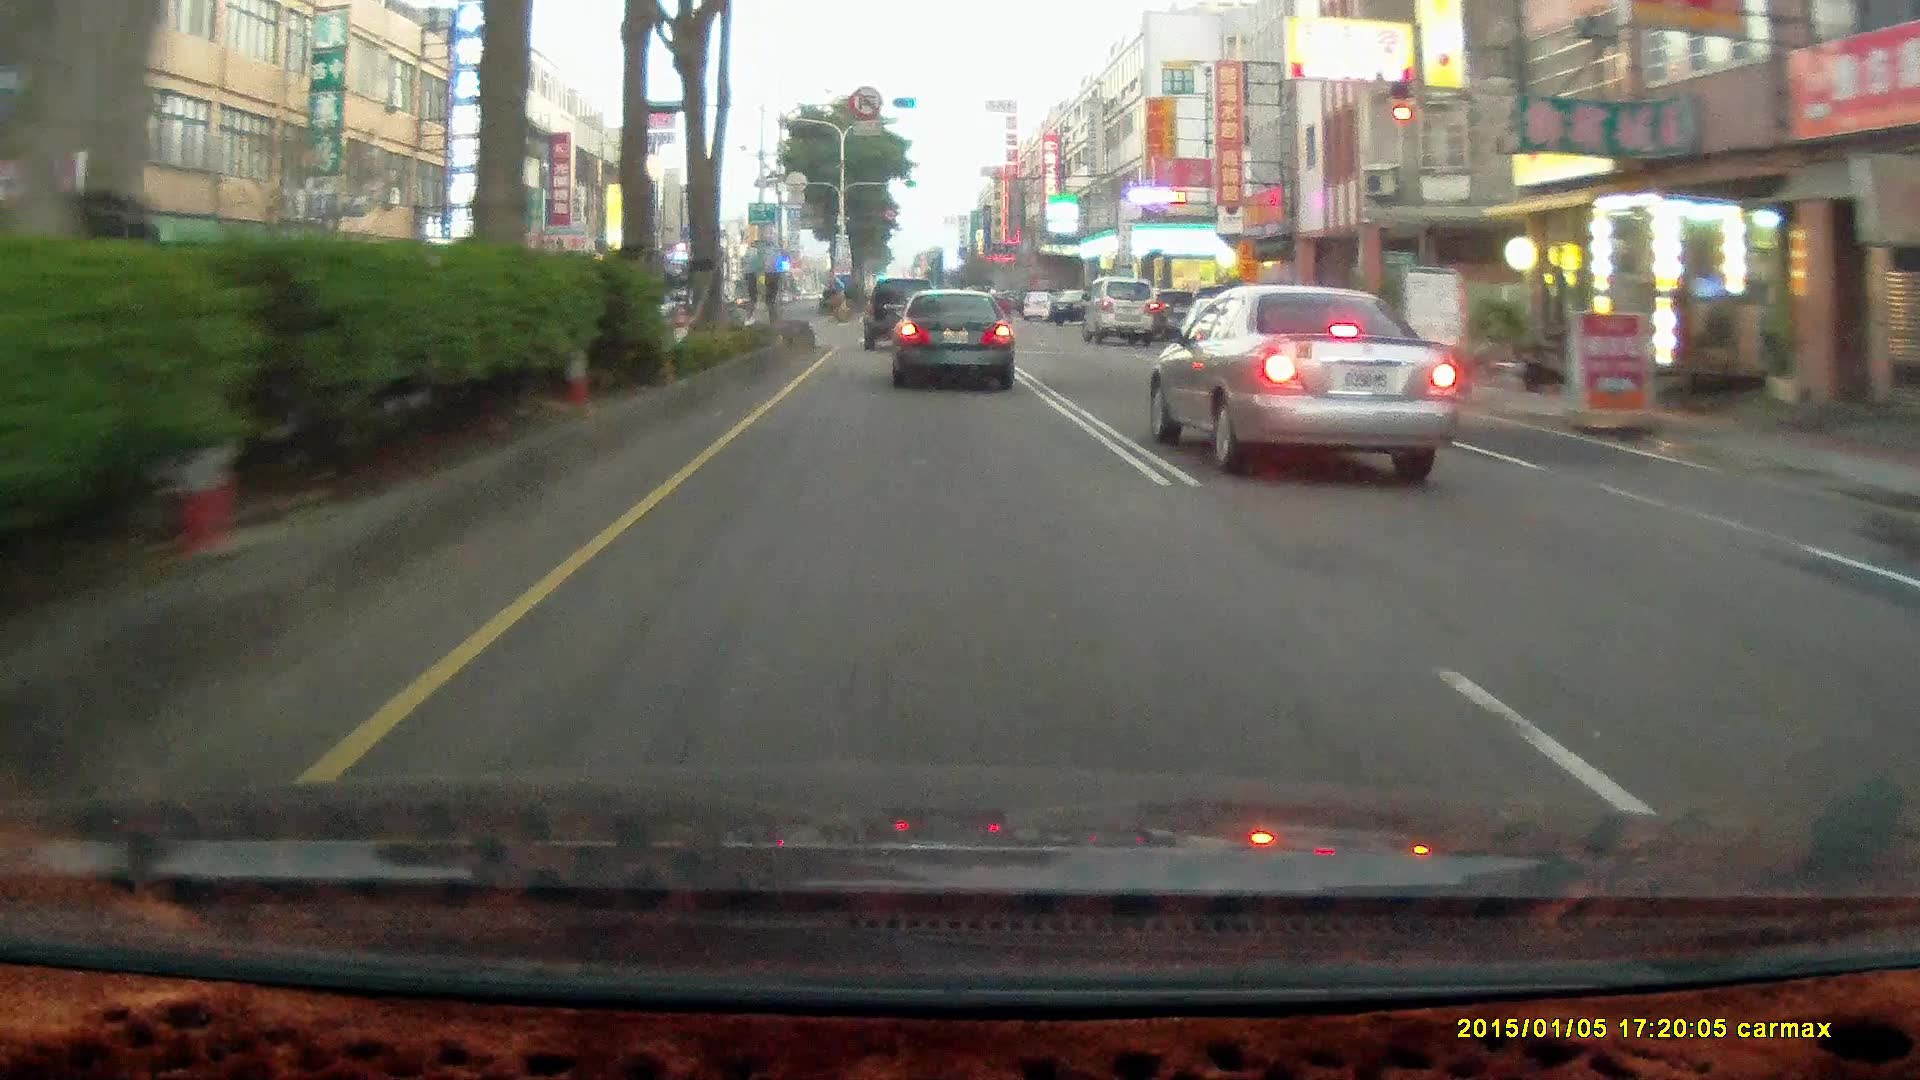vehicle: (1149, 286, 1458, 472), (890, 287, 1021, 396), (890, 286, 1011, 390), (862, 278, 942, 355), (861, 282, 938, 355), (1083, 278, 1159, 347), (1083, 276, 1158, 343), (1050, 284, 1106, 323), (1023, 287, 1054, 316)
